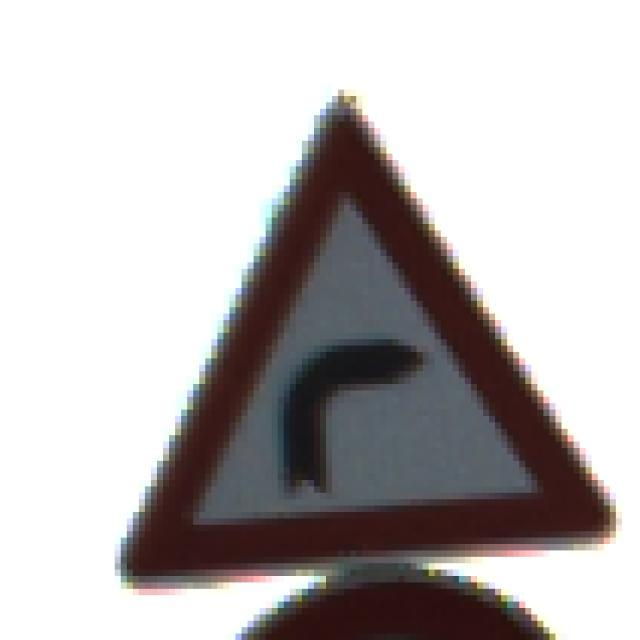right hand curve: (121, 100, 611, 581)
